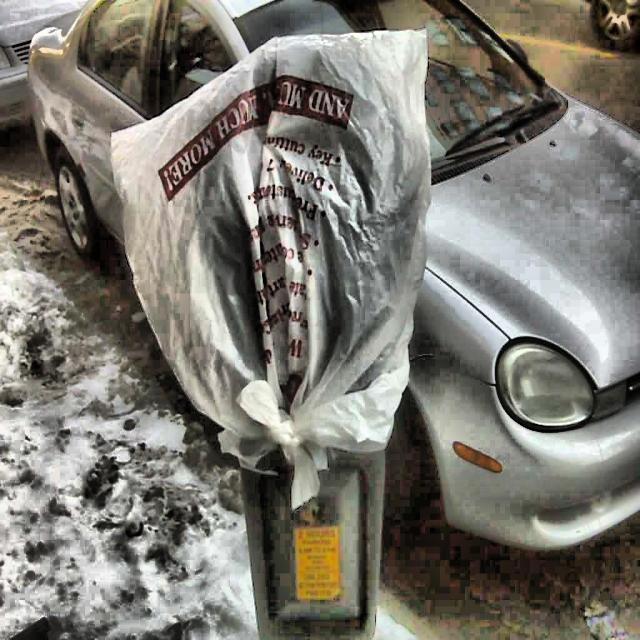Plastic: (108, 35, 458, 495)
